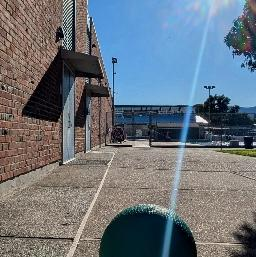algae: (95, 200, 199, 257)
